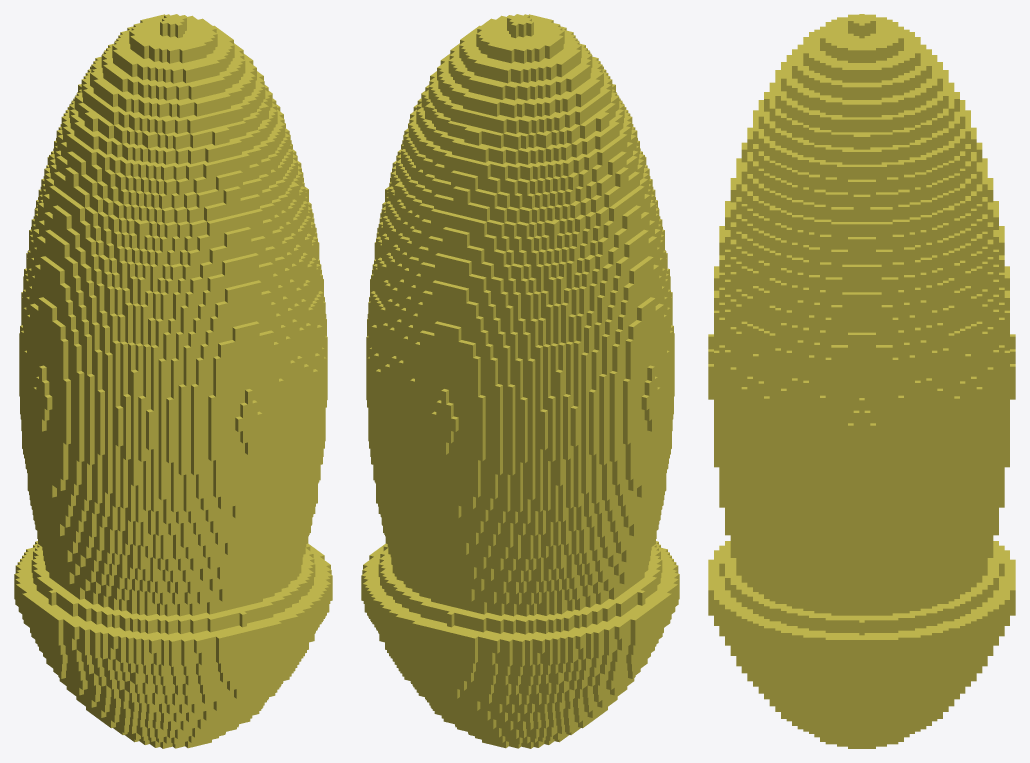
File: ProyectilJugador.fbx
The picture shows the model from 3 angles, left to right: view 1: azimuth 30°, elevation 25°; view 2: azimuth 150°, elevation 25°; view 3: azimuth 270°, elevation 25°; orthographic projection.
Visible parts, largest first — view 1: Esfera; view 2: Esfera; view 3: Esfera.
Boxes of the visible parts, x1,y1,x2,y2 form: Esfera: [14, 14, 332, 748]; Esfera: [361, 14, 679, 748]; Esfera: [708, 14, 1015, 748].
Bounding box in the file's own units: 19.94 × 51.45 × 19.94.
